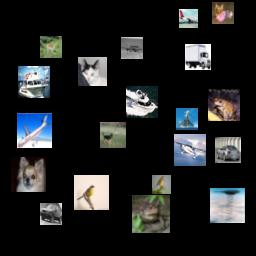airplane: (17, 113, 52, 148), (210, 188, 245, 223), (174, 134, 206, 166), (121, 37, 143, 59), (176, 108, 198, 130), (179, 9, 198, 28)
automobile: (215, 137, 241, 163), (40, 203, 62, 225)
bird: (74, 175, 109, 210), (152, 175, 171, 194)
cat: (78, 57, 107, 86)
deer: (40, 36, 62, 58)
dog: (11, 157, 46, 192), (100, 122, 126, 148), (212, 2, 234, 24)
frog: (132, 195, 170, 233), (208, 89, 240, 121)
ship: (126, 86, 158, 118), (18, 66, 50, 98)
truck: (185, 44, 211, 70)
